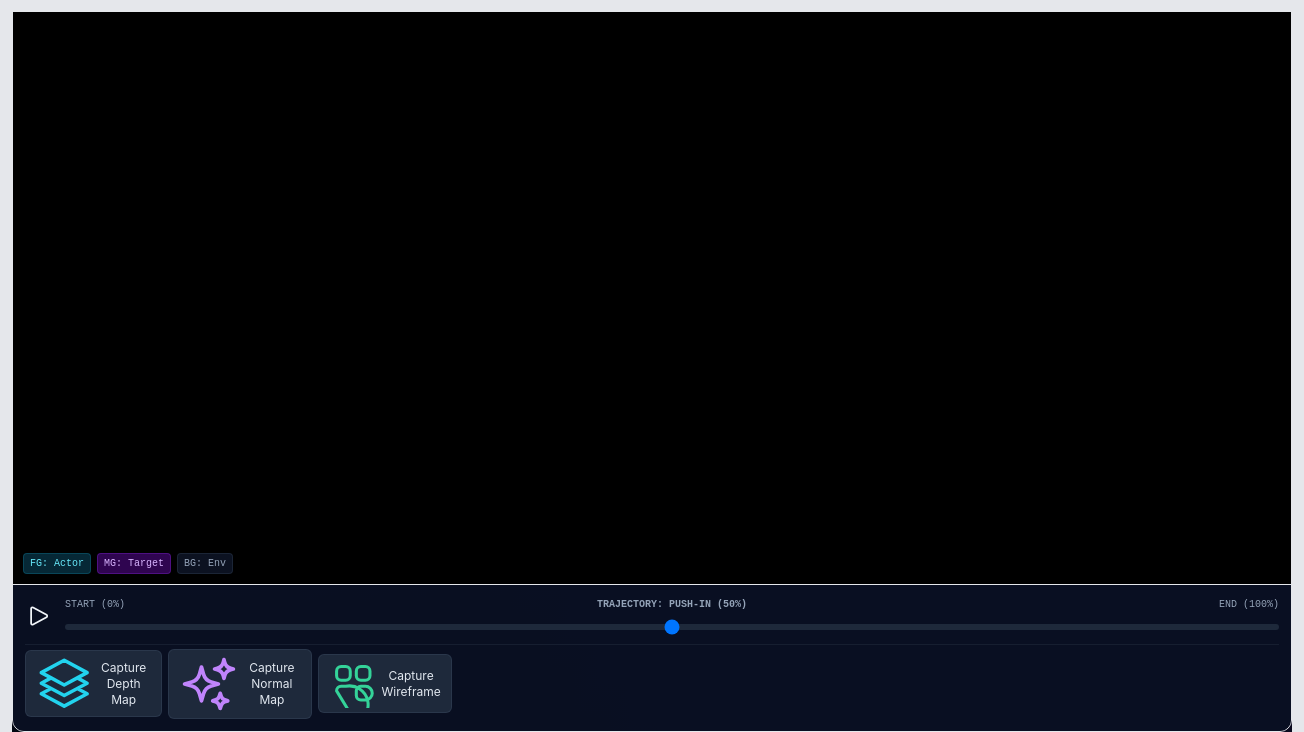
SpatialCamera3dViewport GPU lifecycle › reuses scene geometry, materials and renderer through repeated scrubbing and capture
This screenshot has width=1304, height=732.
(page scrolled)
Set the slider to "0.1" at (193, 627), box [65, 624, 1279, 630]
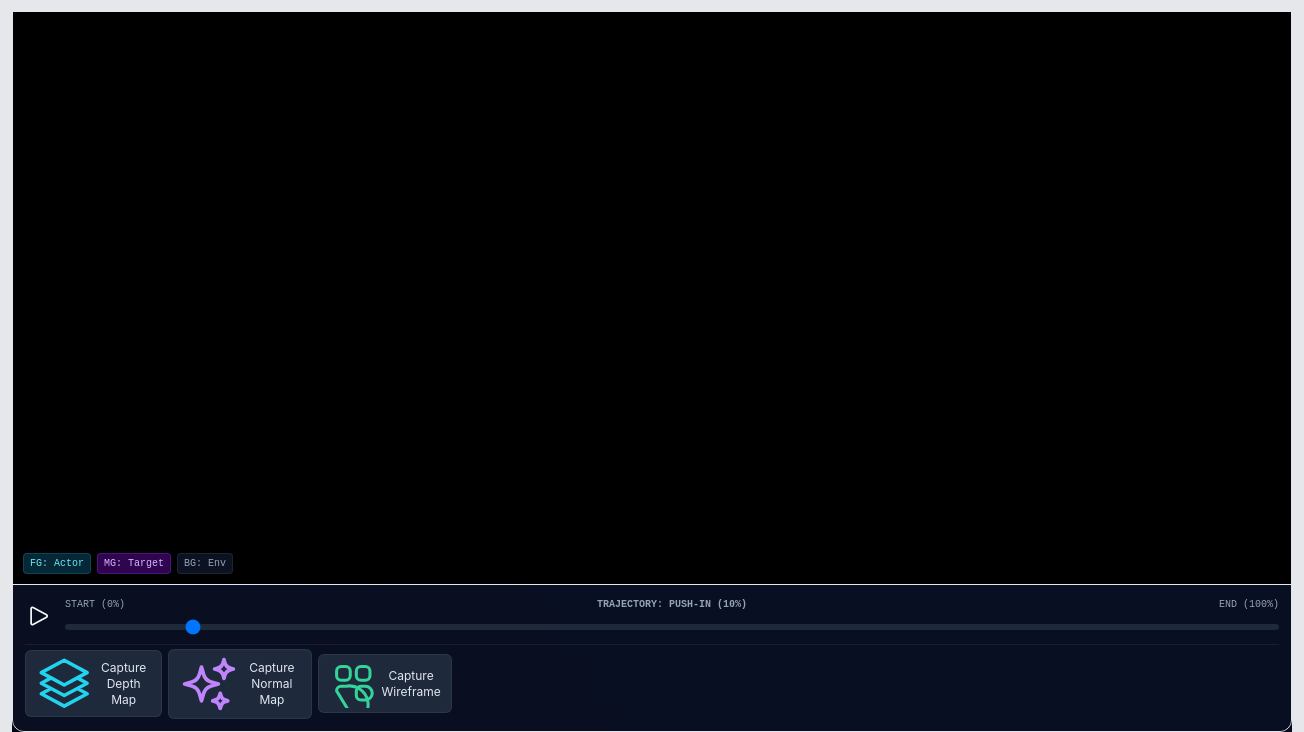
Set the slider to "0.25" at (372, 627), box [65, 624, 1279, 630]
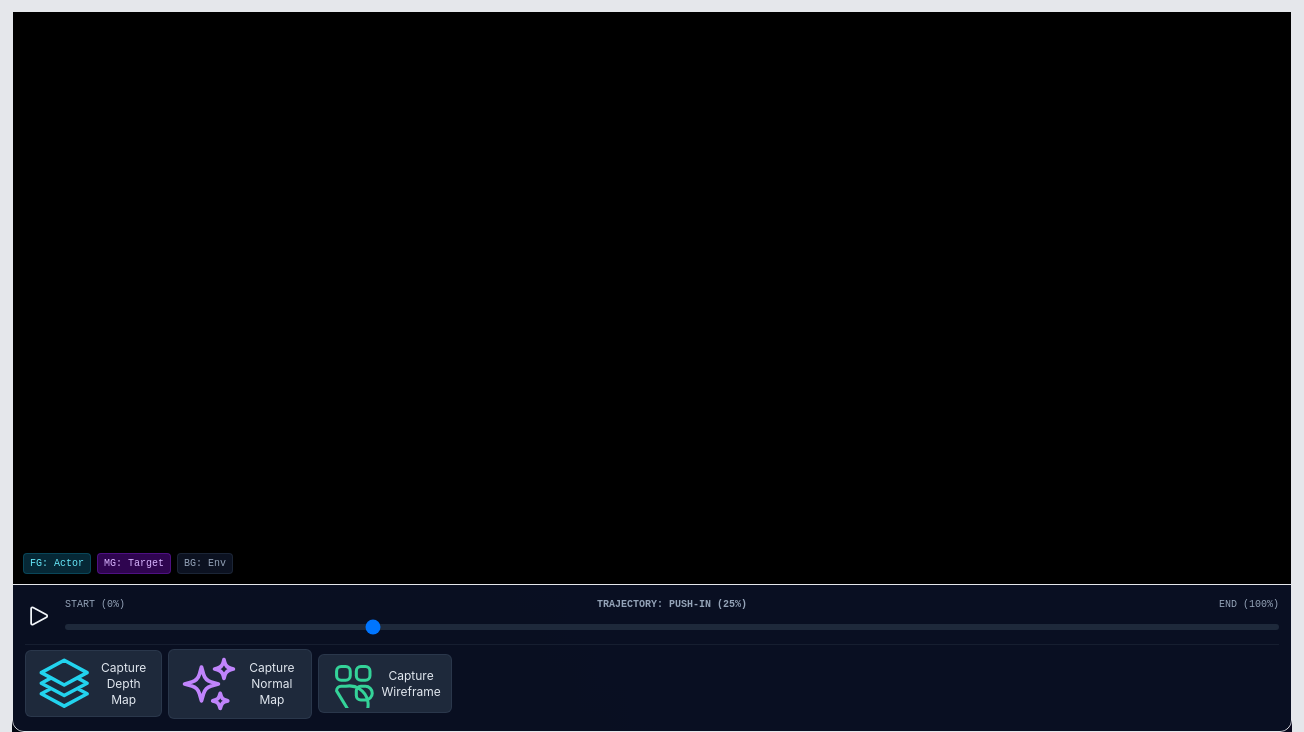
Set the slider to "0.75" at (972, 627), box [65, 624, 1279, 630]
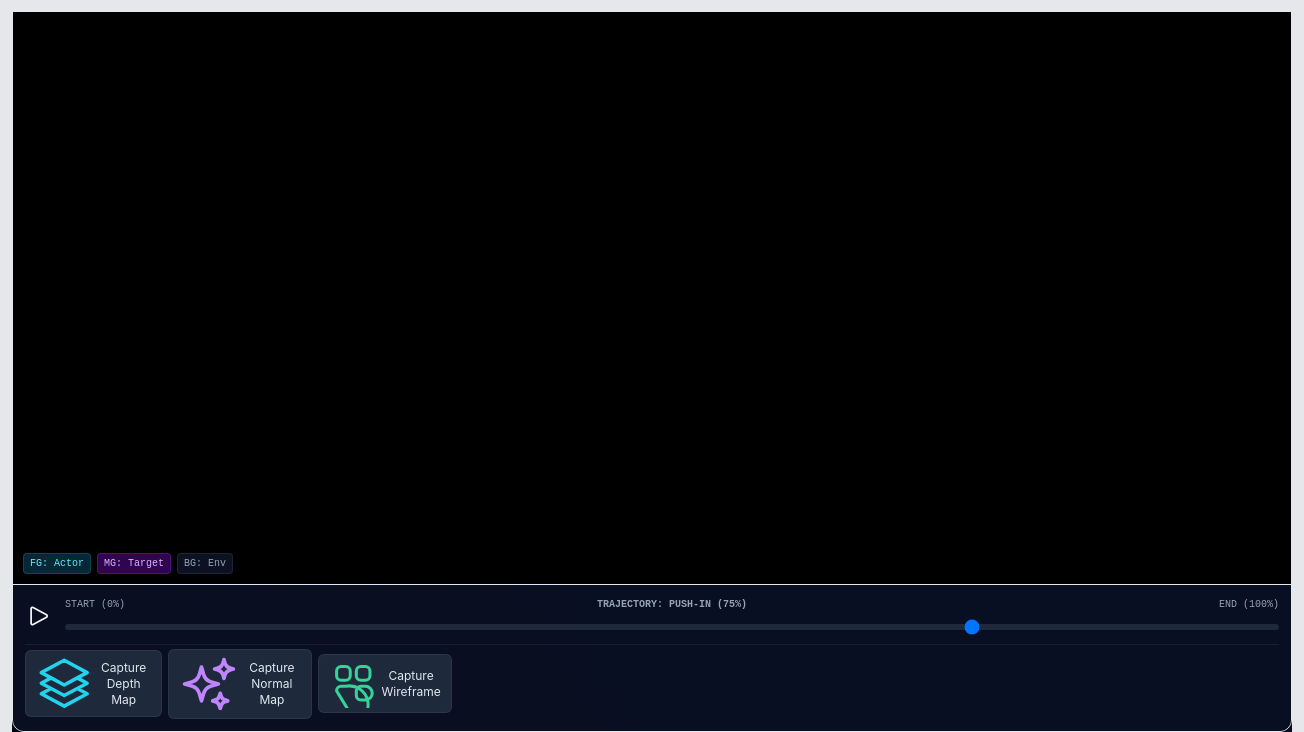
Set the slider to "0.9" at (1151, 627), box [65, 624, 1279, 630]
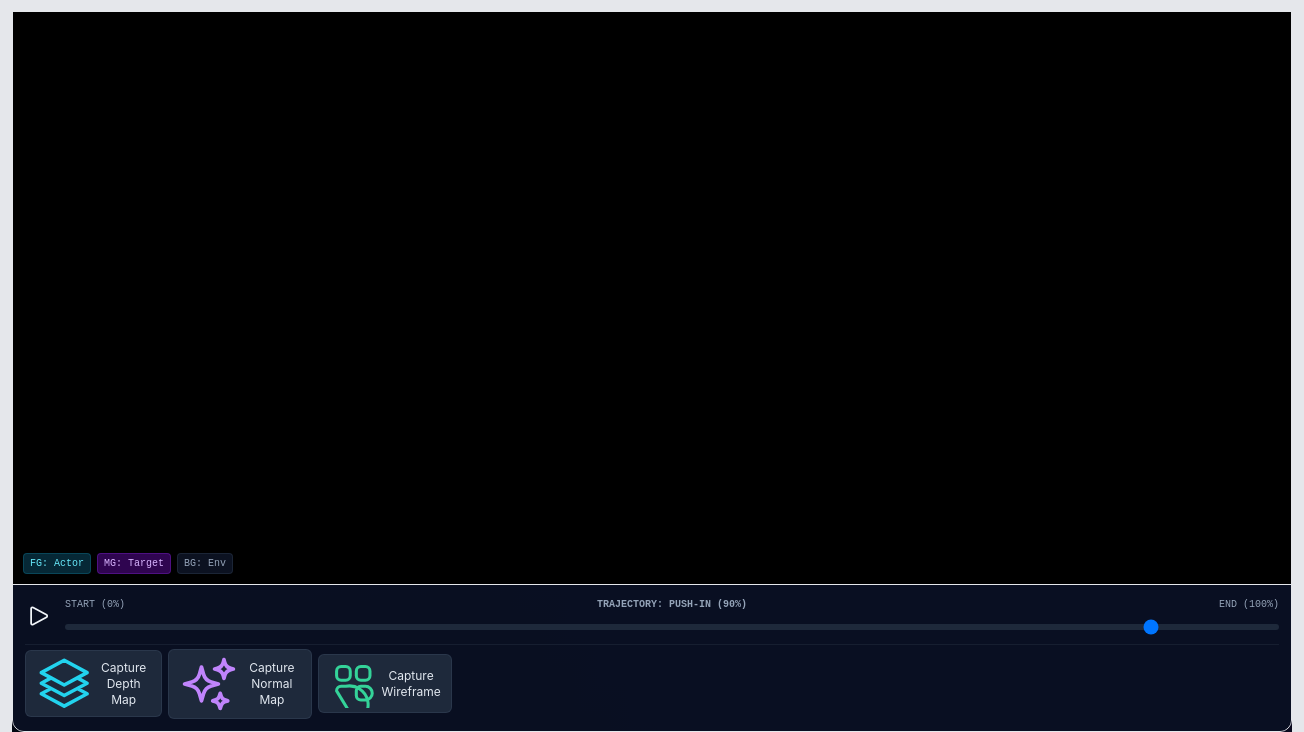
Click the button "Capture Depth Map".
click(93, 684)  # box [25, 650, 162, 717]
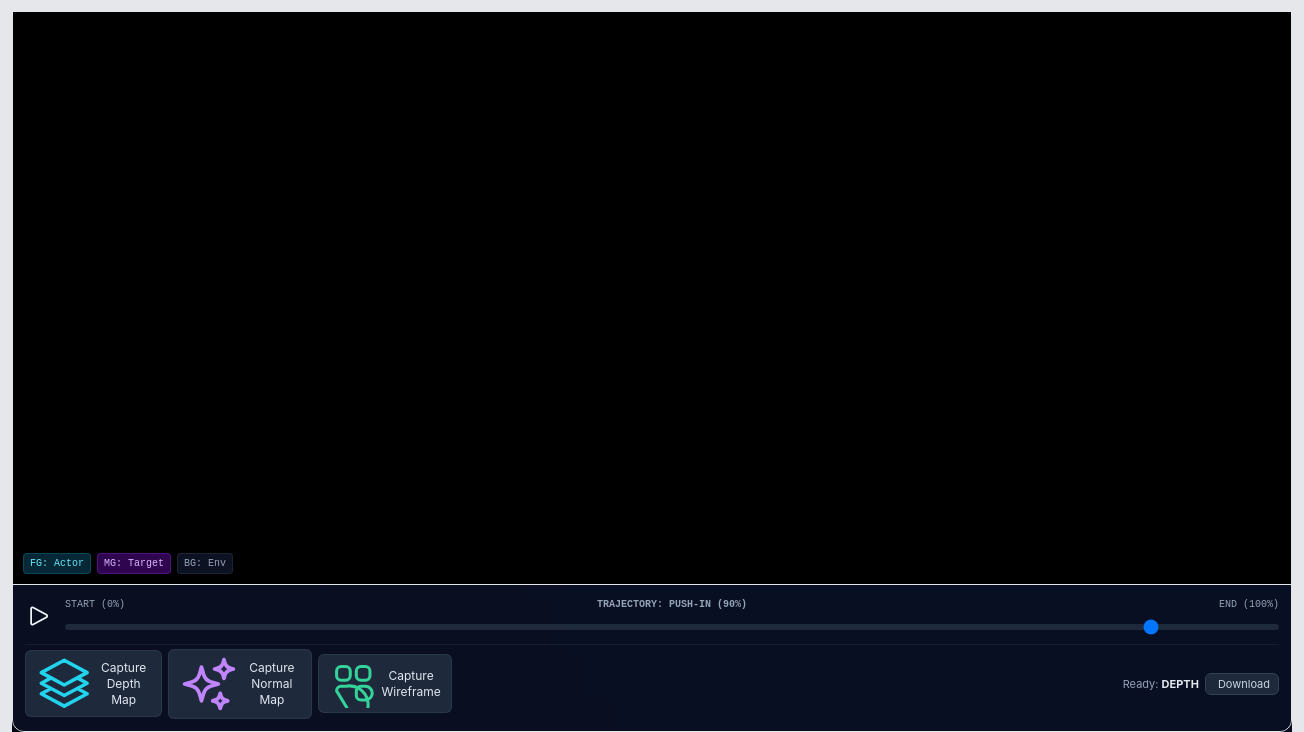
Expected: the button "Download" is shown, [1205, 673, 1279, 695]
